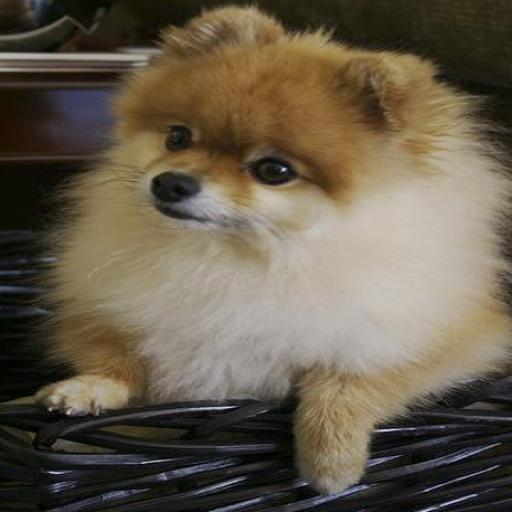dog_face: (121, 7, 426, 234)
